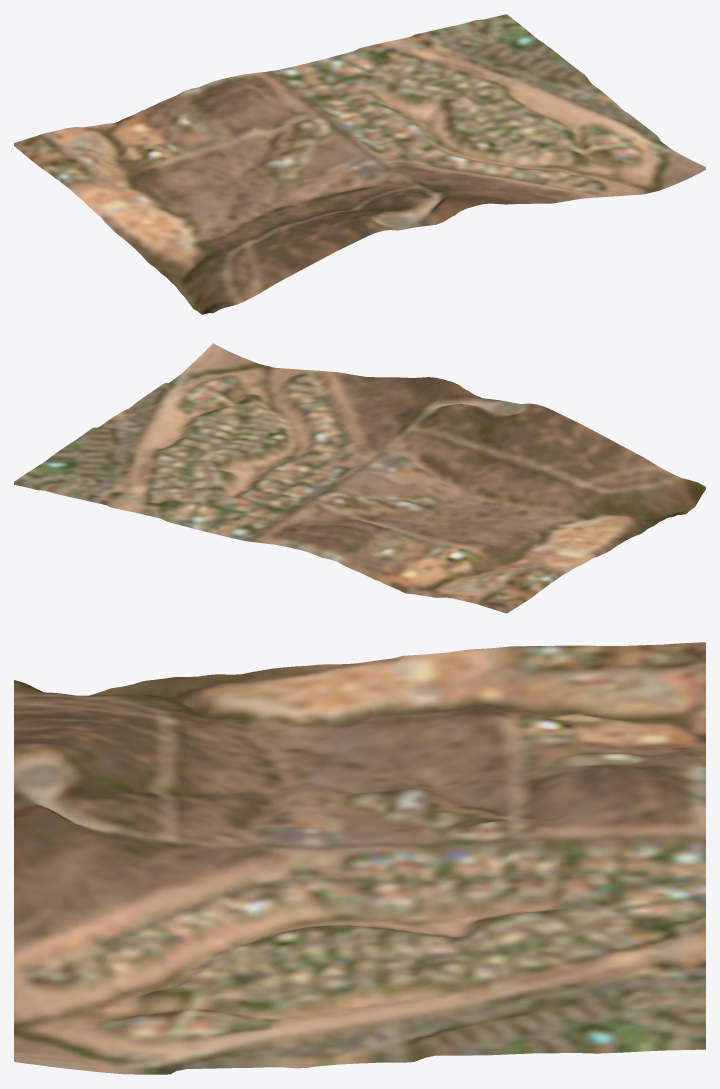
Rendered from terrain_r4_c1_lod1.glb.
3 views of the same model, one above another, from view 1: azimuth 30°, elevation 25°; view 2: azimuth 150°, elevation 25°; view 3: azimuth 270°, elevation 25° (orthographic). The views are drawn at different scales.
Visible parts, largest first — view 1: terrain_r4_c1_lod1; view 2: terrain_r4_c1_lod1; view 3: terrain_r4_c1_lod1.
Part boxes in pixels (x1,y1,x2,y2): terrain_r4_c1_lod1: (14,14,705,314); terrain_r4_c1_lod1: (14,343,705,613); terrain_r4_c1_lod1: (14,642,705,1074).
Size of the model in its own units: 1125 by 122 by 787.
1 material, 1 textured.
